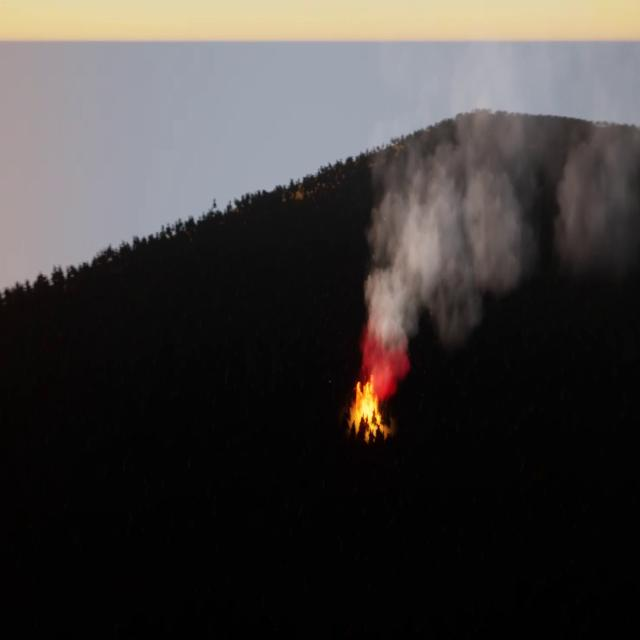fire: (350, 375, 384, 438)
smoke: (356, 49, 636, 382)
